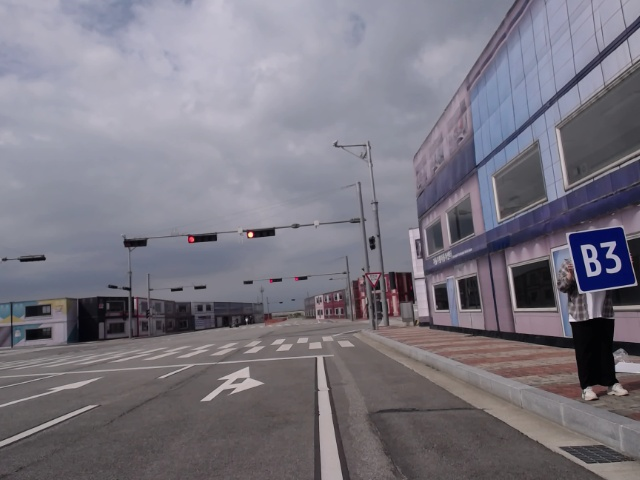delivery_b3: (563, 226, 638, 293)
red_4: (244, 228, 280, 239), (187, 233, 219, 244), (292, 274, 308, 282), (269, 277, 285, 284)
